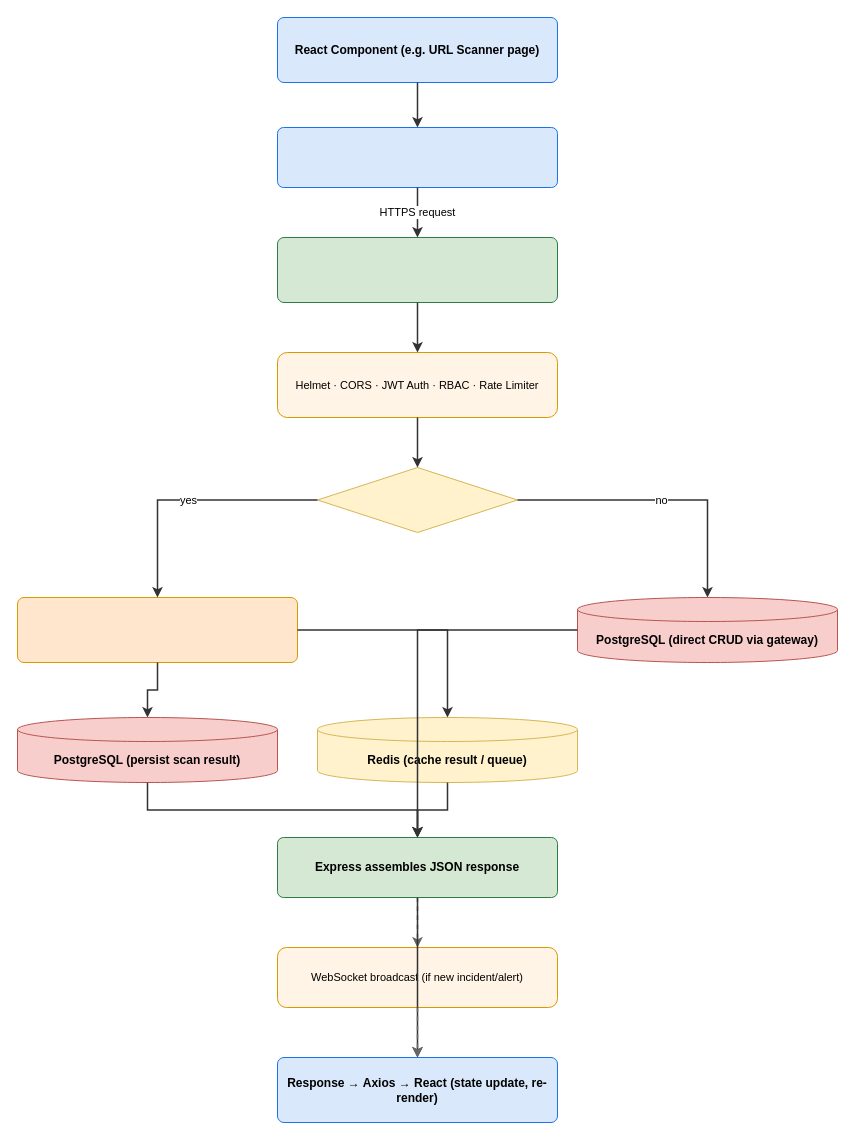
Some shapes in this 855 by 1140 pixel diagram are drawn without their labels. Here are the shapes that lost their labels. From the top down, the centre of each, then its label:
(x=417, y=157): Axios Service Layer (client/src/services)
(x=417, y=269): Express Gateway Route → Middleware chain
(x=417, y=499): Requires detection engine?
(x=157, y=629): FastAPI Detection Engine (scan / analyze / recon)
